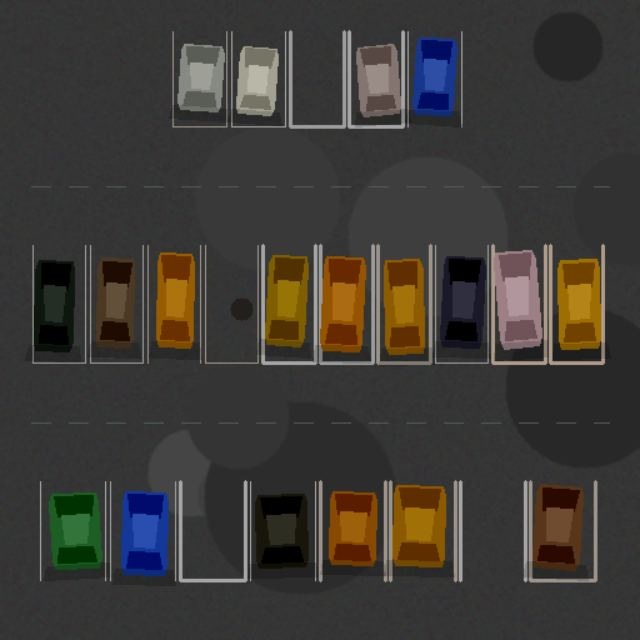space-empty: (180, 481, 245, 580), (460, 481, 525, 580), (205, 245, 257, 362), (290, 31, 344, 126)
space-occupied: (40, 481, 105, 580), (110, 481, 175, 580), (250, 481, 315, 580), (320, 481, 385, 580), (390, 481, 455, 580), (530, 481, 595, 580), (90, 245, 143, 362), (147, 245, 200, 362), (320, 245, 373, 362), (377, 245, 430, 362), (550, 245, 603, 362), (33, 245, 85, 362), (263, 245, 315, 362), (435, 245, 487, 362), (493, 245, 545, 362), (172, 31, 226, 126), (231, 31, 285, 126), (349, 31, 402, 126), (408, 31, 461, 126)
